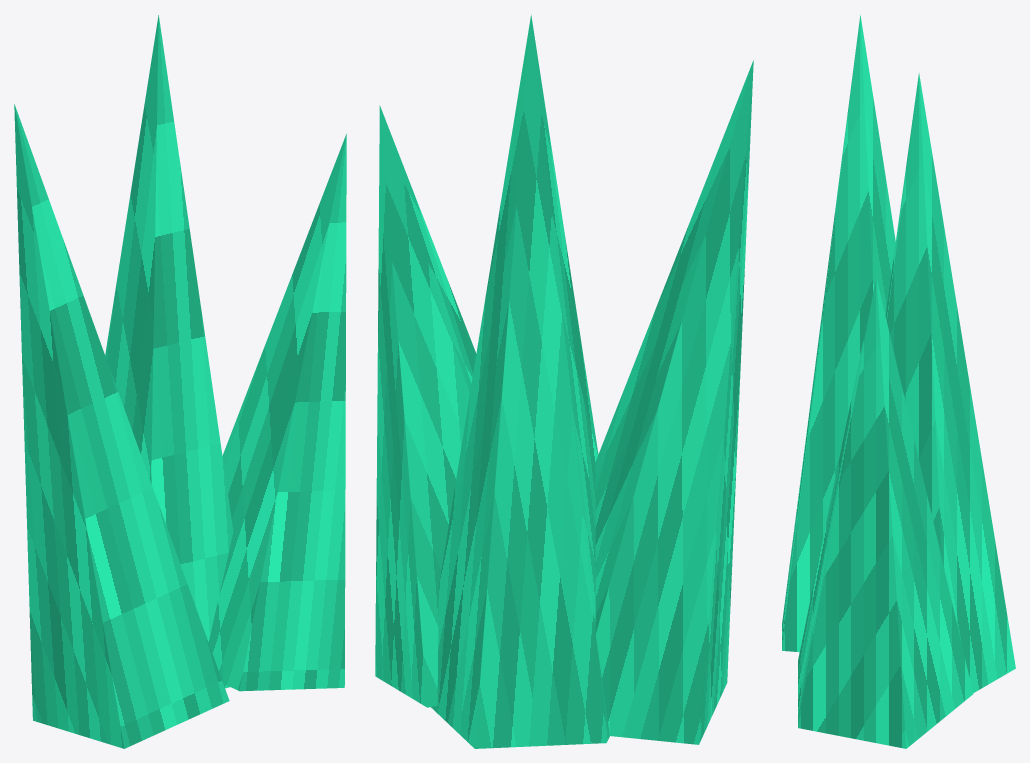
The model's file is crystal_55.glb.
The picture shows the model from 3 angles, left to right: view 1: azimuth 30°, elevation 25°; view 2: azimuth 150°, elevation 25°; view 3: azimuth 270°, elevation 25°; orthographic projection. The views are drawn at different scales.
Visible parts, largest first — view 1: Jade, Jade.002, Jade.001; view 2: Jade.001, Jade, Jade.002; view 3: Jade.002, Jade.001, Jade.
Part boxes in pixels (x1,y1,x2,y2): Jade: (14, 104, 229, 748); Jade.002: (208, 134, 346, 691); Jade.001: (105, 15, 233, 688); Jade.001: (431, 14, 609, 748); Jade: (595, 60, 753, 744); Jade.002: (375, 105, 476, 707); Jade.002: (798, 277, 973, 748); Jade.001: (885, 73, 1015, 693); Jade: (782, 14, 895, 652).
Bounding box in the file's own units: 0.8216 × 1.52 × 0.5311.
1 material, 1 textured.
